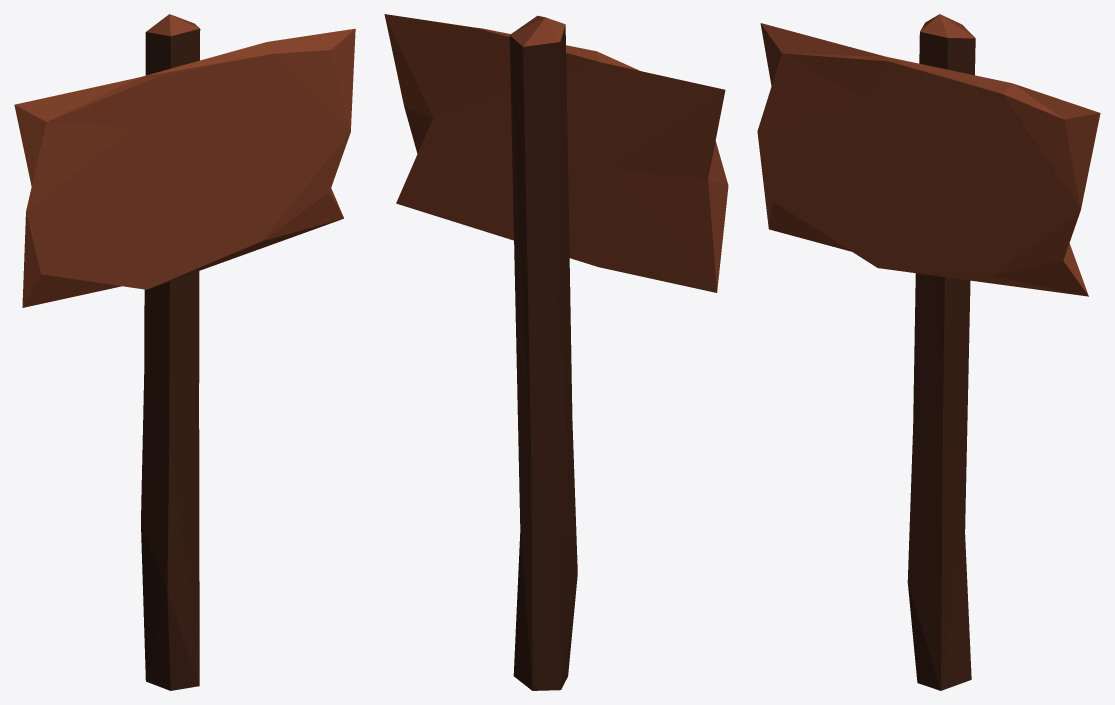
The model's file is indicator.obj.
3 views of the same model, side by side, from view 1: azimuth 30°, elevation 25°; view 2: azimuth 150°, elevation 25°; view 3: azimuth 330°, elevation 25° (orthographic).
Parts seen in each view (by area): view 1: Pointer_Cylinder.015; view 2: Pointer_Cylinder.015; view 3: Pointer_Cylinder.015.
Boxes of the visible parts, <box> form: Pointer_Cylinder.015: <box>14,14,355,690</box>; Pointer_Cylinder.015: <box>384,14,728,690</box>; Pointer_Cylinder.015: <box>757,14,1100,690</box>.
Bounding box in the file's own units: 2.23 × 4.15 × 0.397.
